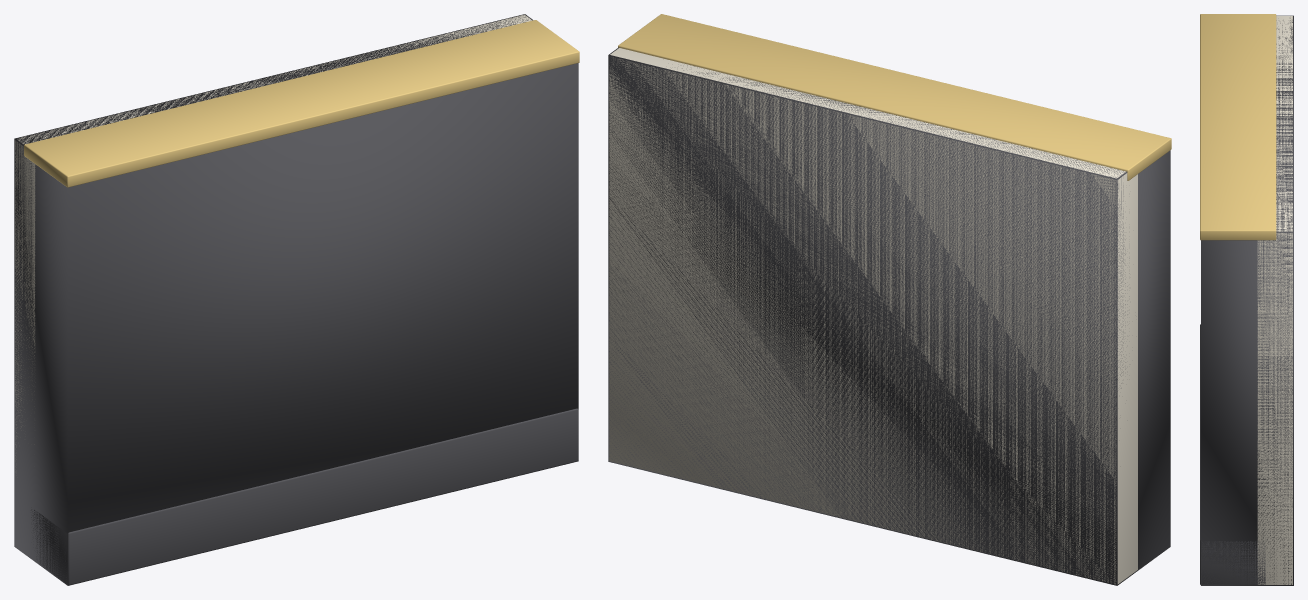
File: vetrina_chiusa_b.glb
3 renders of one model, left to right at view 1: azimuth 30°, elevation 25°; view 2: azimuth 150°, elevation 25°; view 3: azimuth 270°, elevation 25°, orthographic. The views are drawn at different scales.
Parts seen in each view (by area): view 1: COL_vetrina, zoccolo, cg_cima_b_1, retro; view 2: COL_vetrina, retro, cg_cima_b_1; view 3: COL_vetrina, cg_cima_b_1, retro, zoccolo.
Part boxes in pixels (left/top/right/bottom): COL_vetrina: left=14, top=14, right=578, bottom=585; zoccolo: left=31, top=408, right=578, bottom=585; cg_cima_b_1: left=24, top=20, right=579, bottom=187; retro: left=15, top=14, right=532, bottom=459; COL_vetrina: left=608, top=47, right=1170, bottom=585; retro: left=609, top=48, right=1137, bottom=584; cg_cima_b_1: left=618, top=14, right=1171, bottom=180; COL_vetrina: left=1201, top=15, right=1293, bottom=585; cg_cima_b_1: left=1200, top=14, right=1276, bottom=240; retro: left=1257, top=16, right=1292, bottom=584; zoccolo: left=1200, top=324, right=1265, bottom=584.
Bounding box in the file's own units: 5.52 × 4.22 × 1.01.
